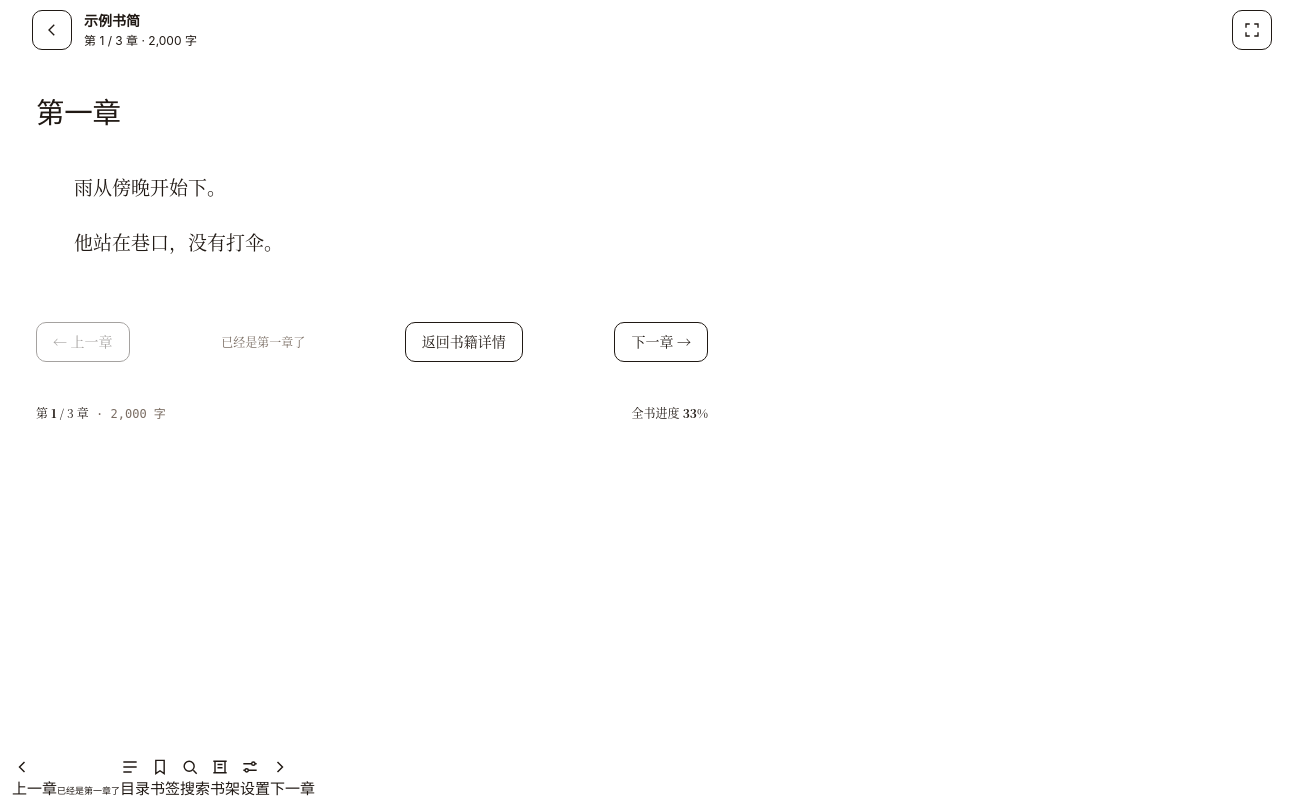
Test: 阅读器：H5 控制层单击唤出与自动收起 › 控制层并排显示当前章与字数，翻章后一起更新
Press the mouse on the element with test id "reader-swipe-area" at (613,260), box [36,98,1190,421]
Expected: the text with test id "reader-top-progress" reads "第 1 / 3 章 · 2,000 字", [84,33,197,48]
Click the button labelled "下一章" at (293,778), box [270,757,315,799]
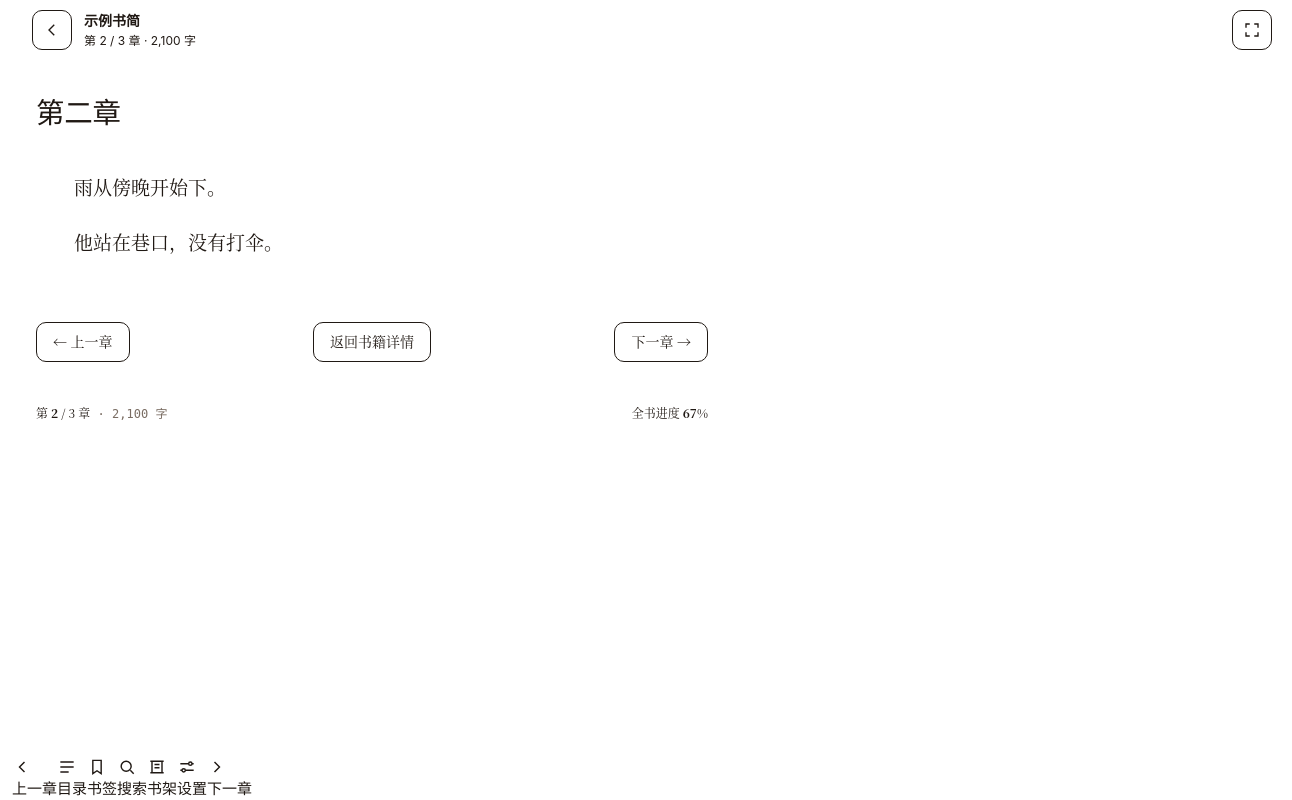
Result: the text with test id "reader-top-progress" reads "第 2 / 3 章 · 2,100 字" at [84,33,196,48]
Result: the text with test id "reader-word" shows "2,100 字" at [112,407,167,421]
